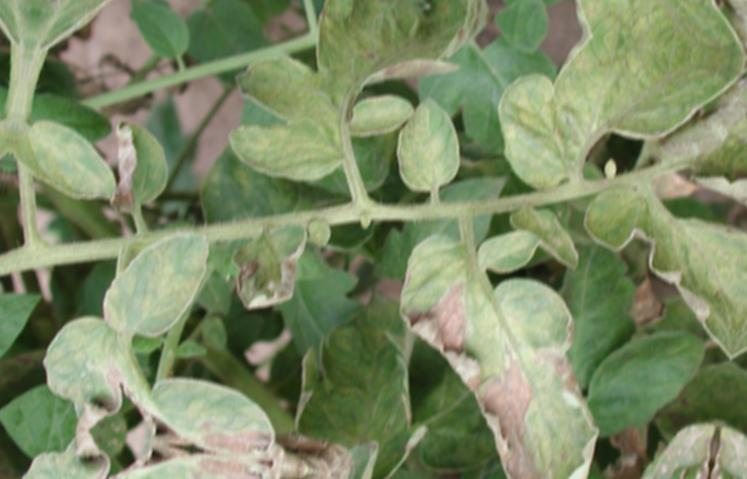Tomato mold leaf: (359, 226, 632, 479), (479, 21, 747, 232), (20, 316, 362, 478), (552, 176, 747, 394), (87, 207, 224, 350), (4, 106, 129, 204), (373, 90, 472, 203), (220, 208, 315, 321), (325, 80, 420, 149)
